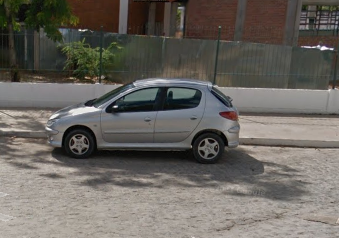car: (44, 75, 245, 163)
